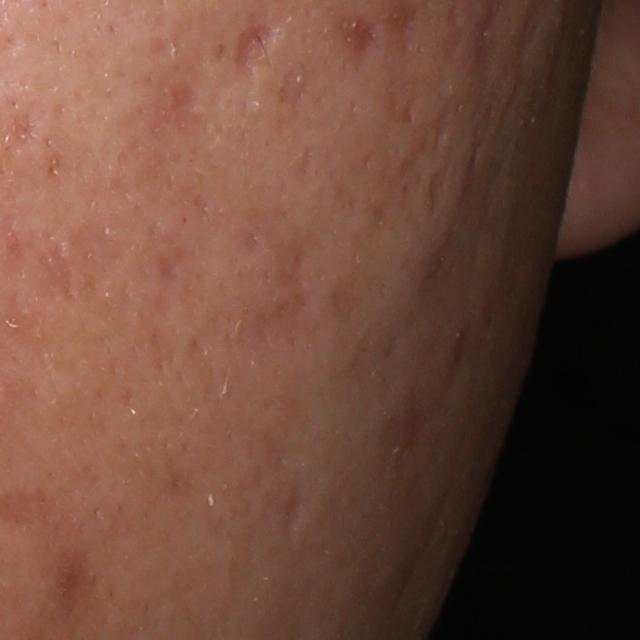atrophic_scar: (149, 73, 212, 142), (232, 18, 285, 83), (331, 15, 379, 71), (279, 470, 314, 543), (427, 159, 452, 211)
